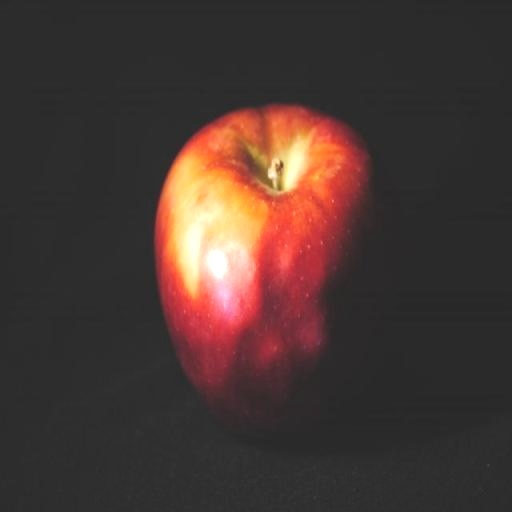fruit: (72, 129, 254, 497)
